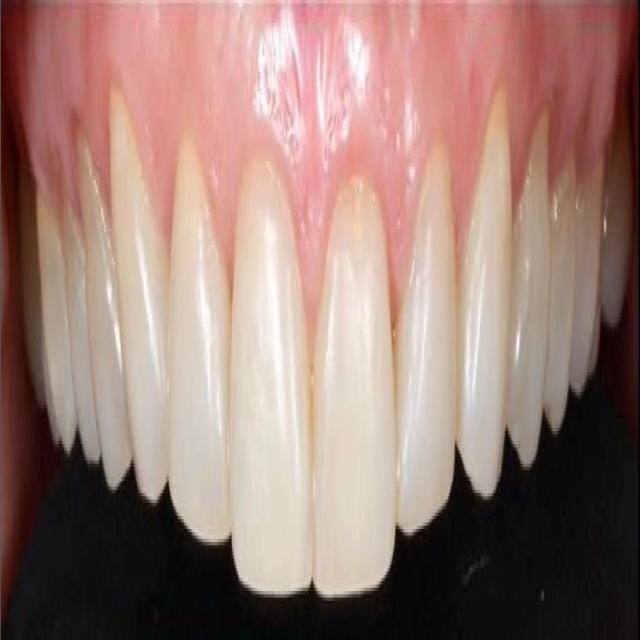1st Molar: (37, 193, 76, 457), (572, 186, 602, 392)
1st Premolar: (77, 137, 131, 496), (508, 111, 549, 470)
2nd Molar: (601, 127, 632, 323), (16, 186, 42, 398)
2nd Premolar: (61, 206, 96, 467), (546, 163, 576, 438)
Canine: (109, 88, 168, 513), (455, 85, 513, 503)
Central Incisor: (311, 180, 397, 598), (231, 160, 312, 598)
Lateral Incisor: (167, 137, 232, 549), (396, 140, 455, 536)
